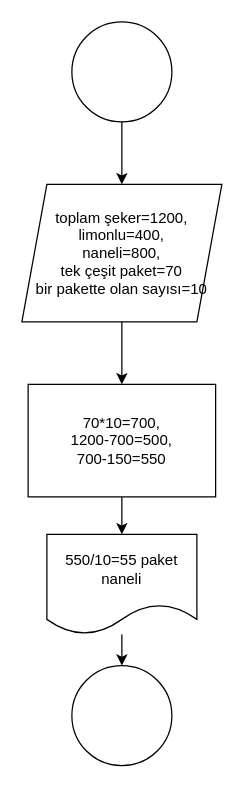
Image size: 244x788. Some labels were removed from this diagram. Each missing label, with the box of its shape:
BAŞLA: (71, 21, 172, 122)
DUR: (71, 664, 172, 766)
